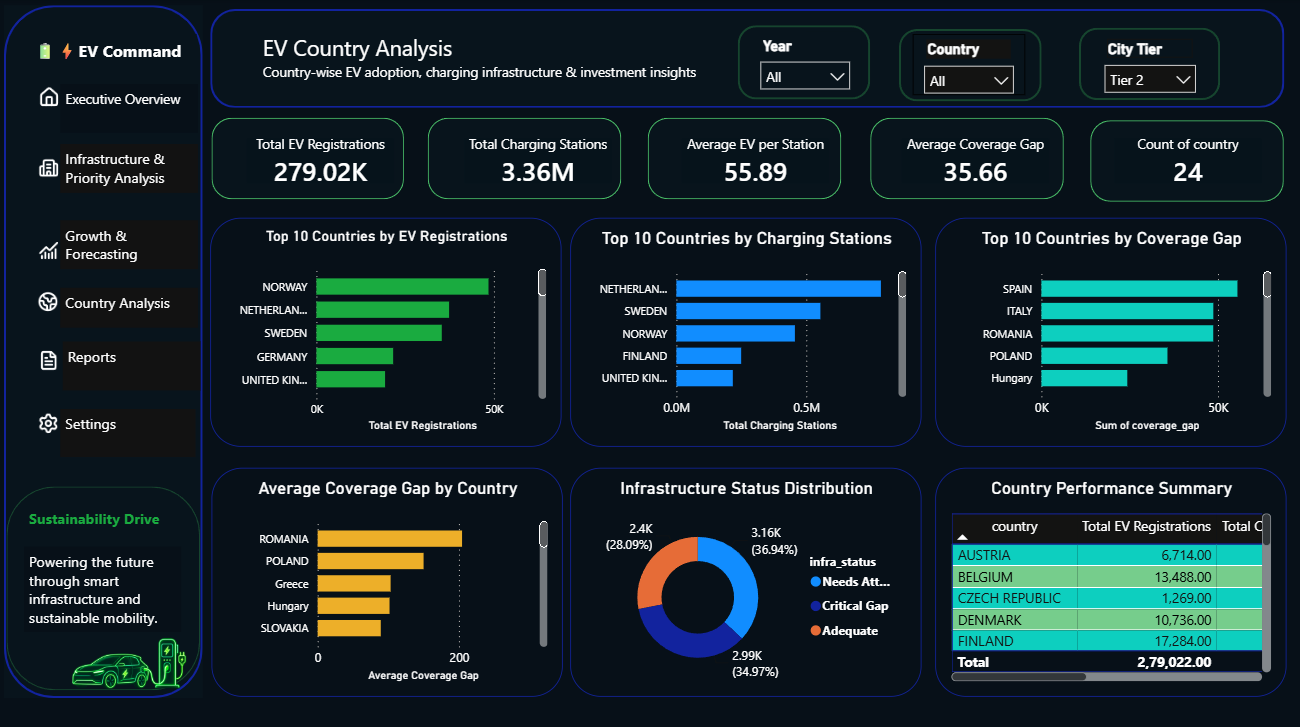

The page's visual inventory and layout, read from the dashboard file:
{"tool":"powerbi","page":{"name":"4.Country Analysis","canvas":[1280,720],"ordinal":3},"visuals":[{"type":"slicer","fields":{"Values":["ev_charging_analysis ev_data.country"]},"box":[963.8,28.8,115,66.2],"z":0},{"type":"shape","box":[4.4,5.6,195,680],"z":1000},{"type":"textbox","box":[20,34.2,174,38.3],"z":2000},{"type":"textbox","box":[60.7,142.1,135,48],"z":3000},{"type":"textbox","box":[60.7,217.1,135,48],"z":4000},{"type":"textbox","box":[60.7,282.9,135,39],"z":5000},{"type":"textbox","box":[63,335.8,135,48],"z":6000},{"type":"textbox","box":[60.7,402.9,133,47],"z":7000},{"type":"image","box":[38.6,86.4,22.1,20.7],"z":8000},{"type":"image","box":[38.6,236.4,21,20],"z":9000},{"type":"image","box":[38.6,156.4,21,20],"z":10000},{"type":"image","box":[38.6,287.1,20.7,20],"z":11000},{"type":"image","box":[38.6,345,21,20],"z":12000},{"type":"image","box":[38.6,406.4,20.7,20.7],"z":13000},{"type":"textbox","box":[60.7,82.9,135,48],"z":14000},{"type":"shape","box":[7.8,478.9,190,200],"z":15000},{"type":"image","box":[60,612.2,128.9,84.4],"z":16000},{"type":"textbox","box":[24.4,495.6,154.4,34.4],"z":17000},{"type":"textbox","box":[24.2,537.5,154.3,84.3],"z":18000},{"type":"shape","box":[207,10,1054.3,97.1],"z":19000},{"type":"textbox","box":[253.5,28.3,527.5,69.5],"z":20000},{"type":"shape","box":[725.7,25.7,130,72.9],"z":21000},{"type":"shape","box":[882.9,30,140,71],"z":22000},{"type":"shape","box":[1060,28.6,138.6,71],"z":23000},{"type":"slicer","fields":{"Values":["ev_charging_analysis ev_data.year"]},"box":[735.8,32.5,110,60],"z":24000},{"type":"slicer","fields":{"Values":["ev_charging_analysis ev_data.country"]},"box":[897.5,34.2,110,60],"z":25000},{"type":"slicer","fields":{"Values":["ev_charging_analysis ev_data.city_tier"]},"box":[1075,34.2,110,60],"z":26000},{"type":"shape","box":[421.4,117.1,190,80],"z":27000},{"type":"shape","box":[637.1,117.1,190,80],"z":28000},{"type":"shape","box":[855.7,117.1,190,80],"z":29000},{"type":"shape","box":[1071.4,118.6,190,80],"z":30000},{"type":"shape","box":[209,117.1,189,80],"z":31000},{"type":"cardVisual","fields":{"Data":["ev_charging_analysis ev_data.Total EV Registrations"]},"box":[237.8,131.1,155,55],"z":32000},{"type":"cardVisual","fields":{"Data":["Count(ev_charging_analysis ev_data.country)"]},"box":[1090,131.1,155,55],"z":33000},{"type":"cardVisual","fields":{"Data":["ev_charging_analysis ev_data.Total Charging Stations"]},"box":[451.1,131.1,155,55],"z":34000},{"type":"cardVisual","fields":{"Data":["ev_charging_analysis ev_data.Average EV per Station"]},"box":[664.4,131.1,155,55],"z":35000},{"type":"cardVisual","fields":{"Data":["ev_charging_analysis ev_data.Average Coverage Gap"]},"box":[881.1,131.1,155,55],"z":36000},{"type":"clusteredBarChart","title":"Top 10 Countries by EV Registrations","fields":{"Category":["ev_charging_analysis ev_data.country"],"Y":["ev_charging_analysis ev_data.Total EV Registrations"]},"box":[207,214.3,345,225],"z":37000},{"type":"clusteredBarChart","title":"Top 10 Countries by Charging Stations","fields":{"Category":["ev_charging_analysis ev_data.country"],"Y":["ev_charging_analysis ev_data.Total Charging Stations"]},"box":[561,214.3,345,225],"z":38000},{"type":"clusteredBarChart","title":"Top 10 Countries by Coverage Gap","fields":{"Category":["ev_charging_analysis ev_data.country"],"Y":["Sum(ev_charging_analysis ev_data.coverage_gap)"]},"box":[919,214.3,345,225],"z":39000},{"type":"clusteredBarChart","title":"Average Coverage Gap by Country","fields":{"Category":["ev_charging_analysis ev_data.country"],"Y":["ev_charging_analysis ev_data.Average Coverage Gap"]},"box":[208.6,460,345,225],"z":40000},{"type":"donutChart","title":"Infrastructure Status Distribution","fields":{"Category":["ev_charging_analysis ev_data.infra_status"],"Y":["CountNonNull(ev_charging_analysis ev_data.country)"]},"box":[561,460,345,225],"z":41000},{"type":"tableEx","title":"Country Performance Summary","fields":{"Values":["ev_charging_analysis ev_data.country","ev_charging_analysis ev_data.Total EV Registrations","ev_charging_analysis ev_data.Total Charging Stations","ev_charging_analysis ev_data.Average EV per Station","ev_charging_analysis ev_data.Average Coverage Gap"]},"box":[918.6,460,345,225],"z":42000}]}

Visuals, with their boxes on the page's 1280x720 design canvas (x1, y1, x2, y2). These are canvas units, not pixel positions in the 1300x727 screenshot, which may show the page scaled, cropped or inside an application window:
slicer - ev_charging_analysis ev_data.country: [x1=964, y1=29, x2=1079, y2=95]
shape: [x1=4, y1=6, x2=199, y2=686]
textbox: [x1=20, y1=34, x2=194, y2=72]
textbox: [x1=61, y1=142, x2=196, y2=190]
textbox: [x1=61, y1=217, x2=196, y2=265]
textbox: [x1=61, y1=283, x2=196, y2=322]
textbox: [x1=63, y1=336, x2=198, y2=384]
textbox: [x1=61, y1=403, x2=194, y2=450]
image: [x1=39, y1=86, x2=61, y2=107]
image: [x1=39, y1=236, x2=60, y2=256]
image: [x1=39, y1=156, x2=60, y2=176]
image: [x1=39, y1=287, x2=59, y2=307]
image: [x1=39, y1=345, x2=60, y2=365]
image: [x1=39, y1=406, x2=59, y2=427]
textbox: [x1=61, y1=83, x2=196, y2=131]
shape: [x1=8, y1=479, x2=198, y2=679]
image: [x1=60, y1=612, x2=189, y2=697]
textbox: [x1=24, y1=496, x2=179, y2=530]
textbox: [x1=24, y1=538, x2=178, y2=622]
shape: [x1=207, y1=10, x2=1261, y2=107]
textbox: [x1=254, y1=28, x2=781, y2=98]
shape: [x1=726, y1=26, x2=856, y2=99]
shape: [x1=883, y1=30, x2=1023, y2=101]
shape: [x1=1060, y1=29, x2=1199, y2=100]
slicer - ev_charging_analysis ev_data.year: [x1=736, y1=32, x2=846, y2=92]
slicer - ev_charging_analysis ev_data.country: [x1=898, y1=34, x2=1008, y2=94]
slicer - ev_charging_analysis ev_data.city_tier: [x1=1075, y1=34, x2=1185, y2=94]
shape: [x1=421, y1=117, x2=611, y2=197]
shape: [x1=637, y1=117, x2=827, y2=197]
shape: [x1=856, y1=117, x2=1046, y2=197]
shape: [x1=1071, y1=119, x2=1261, y2=199]
shape: [x1=209, y1=117, x2=398, y2=197]
cardVisual - ev_charging_analysis ev_data.Total EV Registrations: [x1=238, y1=131, x2=393, y2=186]
cardVisual - Count(ev_charging_analysis ev_data.country): [x1=1090, y1=131, x2=1245, y2=186]
cardVisual - ev_charging_analysis ev_data.Total Charging Stations: [x1=451, y1=131, x2=606, y2=186]
cardVisual - ev_charging_analysis ev_data.Average EV per Station: [x1=664, y1=131, x2=819, y2=186]
cardVisual - ev_charging_analysis ev_data.Average Coverage Gap: [x1=881, y1=131, x2=1036, y2=186]
"Top 10 Countries by EV Registrations" clusteredBarChart: [x1=207, y1=214, x2=552, y2=439]
"Top 10 Countries by Charging Stations" clusteredBarChart: [x1=561, y1=214, x2=906, y2=439]
"Top 10 Countries by Coverage Gap" clusteredBarChart: [x1=919, y1=214, x2=1264, y2=439]
"Average Coverage Gap by Country" clusteredBarChart: [x1=209, y1=460, x2=554, y2=685]
"Infrastructure Status Distribution" donutChart: [x1=561, y1=460, x2=906, y2=685]
"Country Performance Summary" tableEx: [x1=919, y1=460, x2=1264, y2=685]
